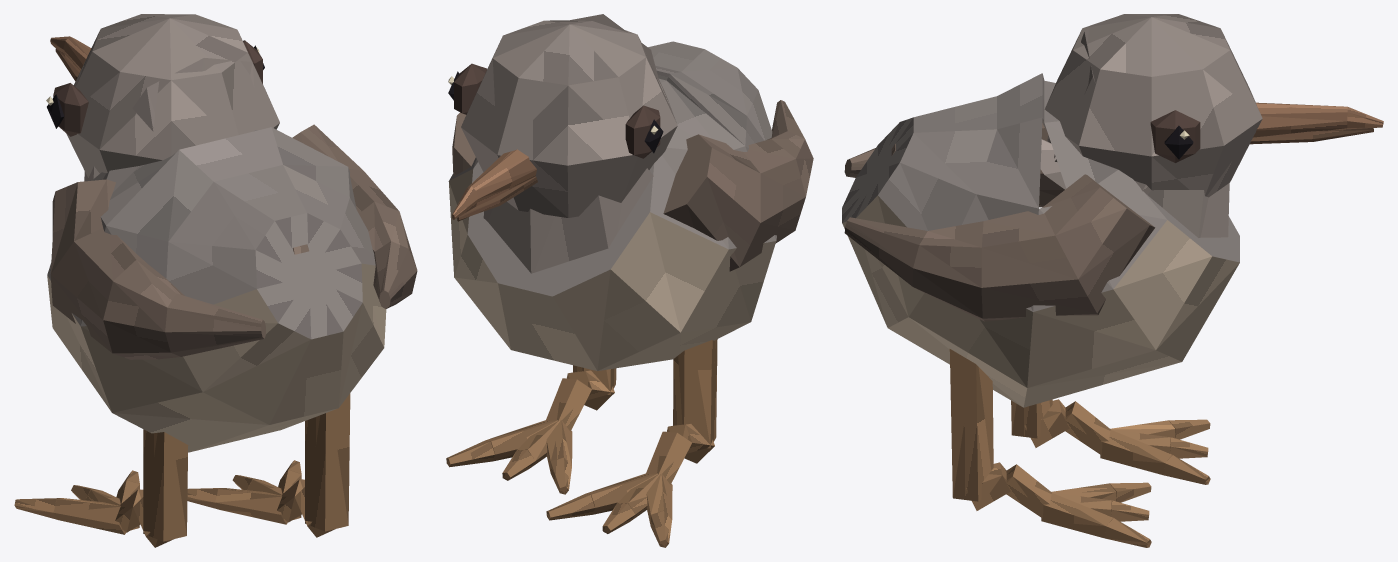
Rendered from mon_hummingbird_chick.glb.
3 views of the same model, side by side, from view 1: azimuth 30°, elevation 25°; view 2: azimuth 150°, elevation 25°; view 3: azimuth 270°, elevation 25° (orthographic).
Parts seen in each view (by area): view 1: closed_body; view 2: closed_body; view 3: closed_body.
Boxes of the visible parts, bbox=[...] form: closed_body: bbox=[14, 14, 417, 547]; closed_body: bbox=[446, 14, 813, 547]; closed_body: bbox=[842, 14, 1383, 547].
Size of the model in its own units: 0.0303 by 0.0446 by 0.0463.
1 material, 1 textured.
